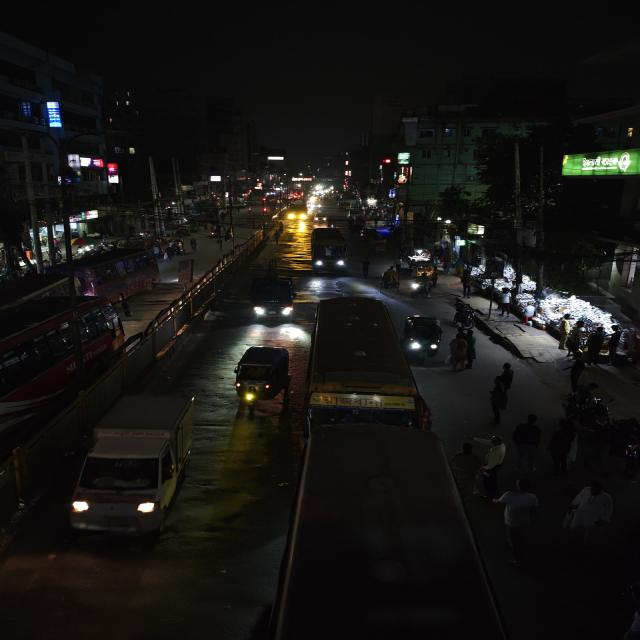bus: (279, 426, 483, 640), (0, 296, 123, 426), (73, 246, 162, 303), (310, 226, 350, 274)
cng: (232, 342, 290, 413), (404, 313, 443, 360)
motorcycle: (597, 414, 640, 476)
pedestrian: (495, 477, 540, 564), (566, 479, 613, 543), (510, 413, 545, 475), (547, 416, 581, 476), (478, 433, 508, 498), (452, 437, 484, 497), (484, 370, 516, 424), (447, 330, 472, 372), (584, 325, 608, 367), (492, 361, 518, 393), (566, 358, 590, 389)
pickup_van: (249, 262, 297, 324)
truck: (70, 389, 198, 545)
